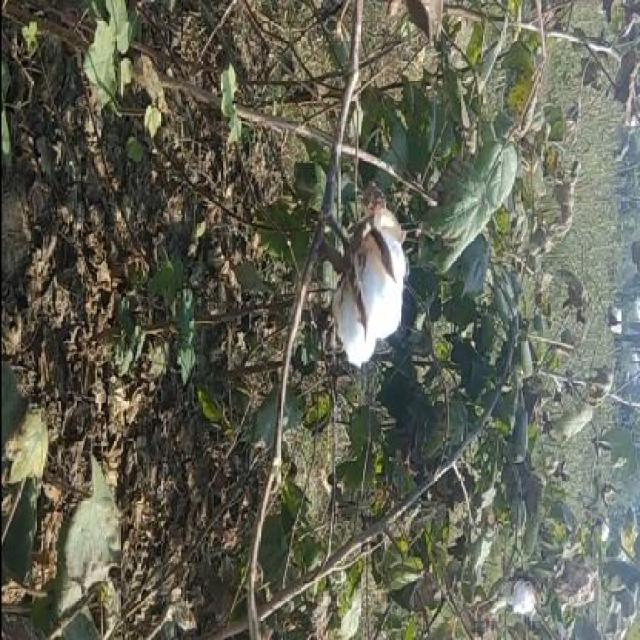cotton_ready: (304, 181, 418, 393)
